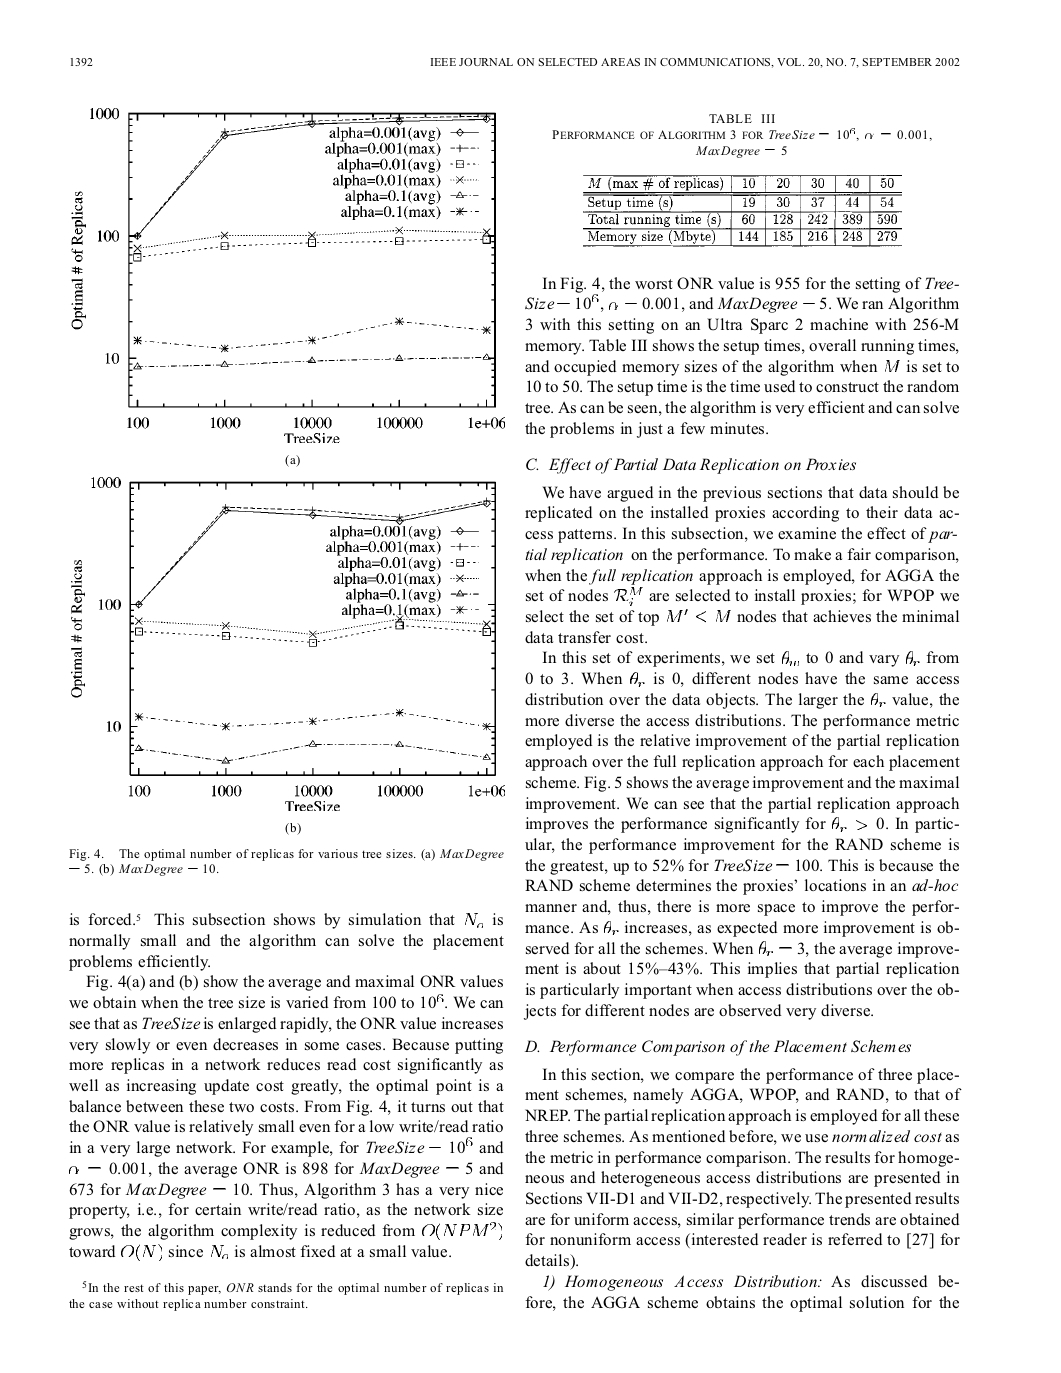Table: (583, 175, 901, 246)
figure: (71, 108, 504, 442), (71, 477, 504, 810)
